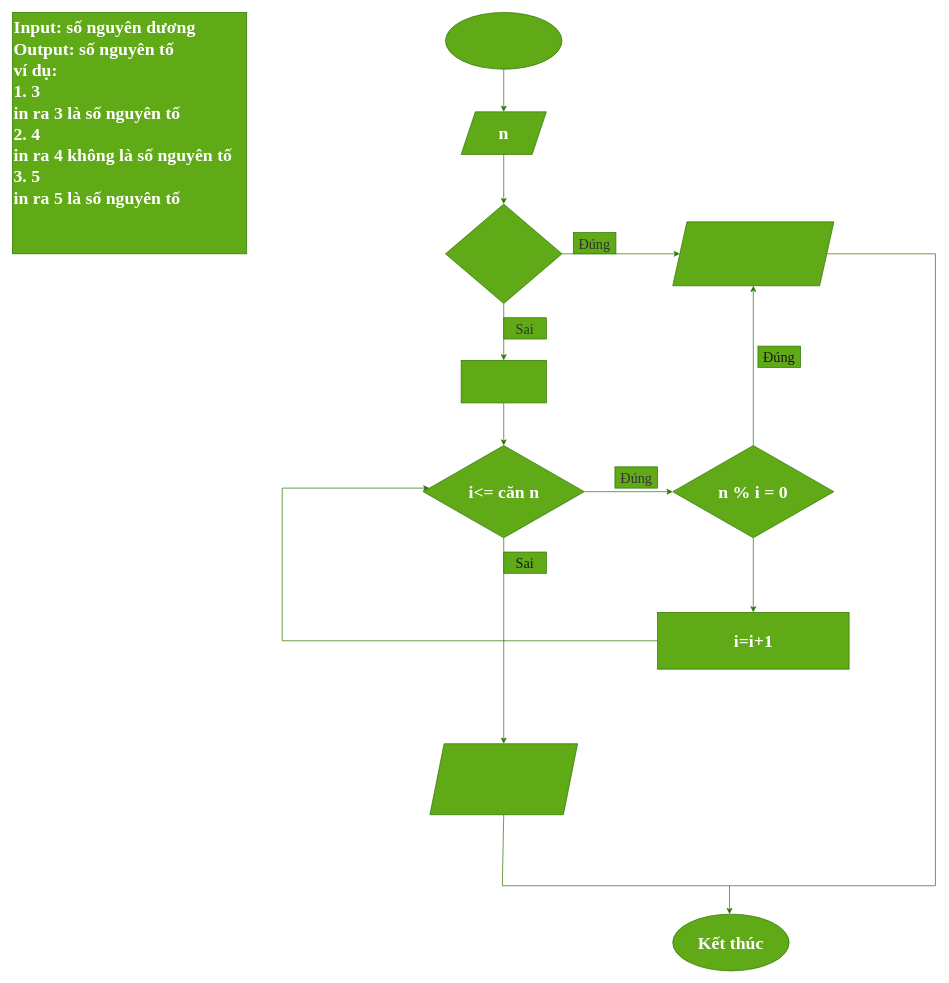
The diagram is 949 pixels wide and 983 high, and some of its shapes have lost their labels. Here are the shapes that lost their labels. From the top down, the centre of each, then its label:
pixel 503 40: Bắt đầu
pixel 503 253: n<2
pixel 753 253: in ra "n không là số nguyên tố"
pixel 503 381: i=2
pixel 503 779: in ra "n là Snt"
